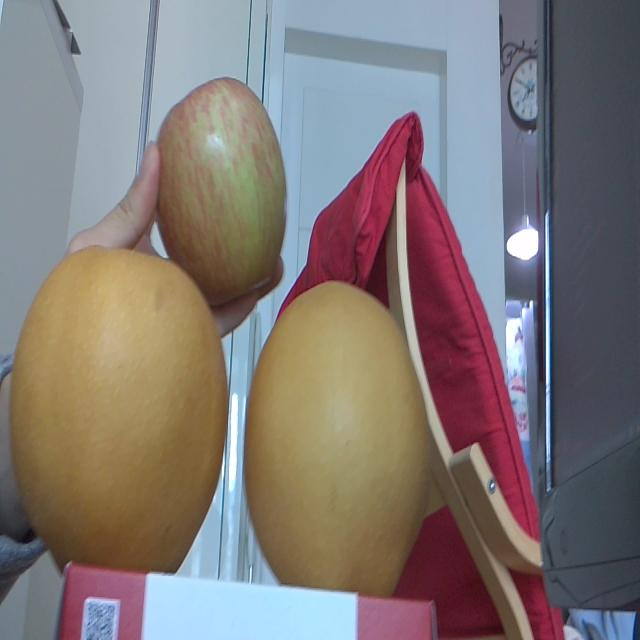apple: (160, 76, 289, 306)
pear: (11, 246, 230, 572), (244, 281, 432, 591)
